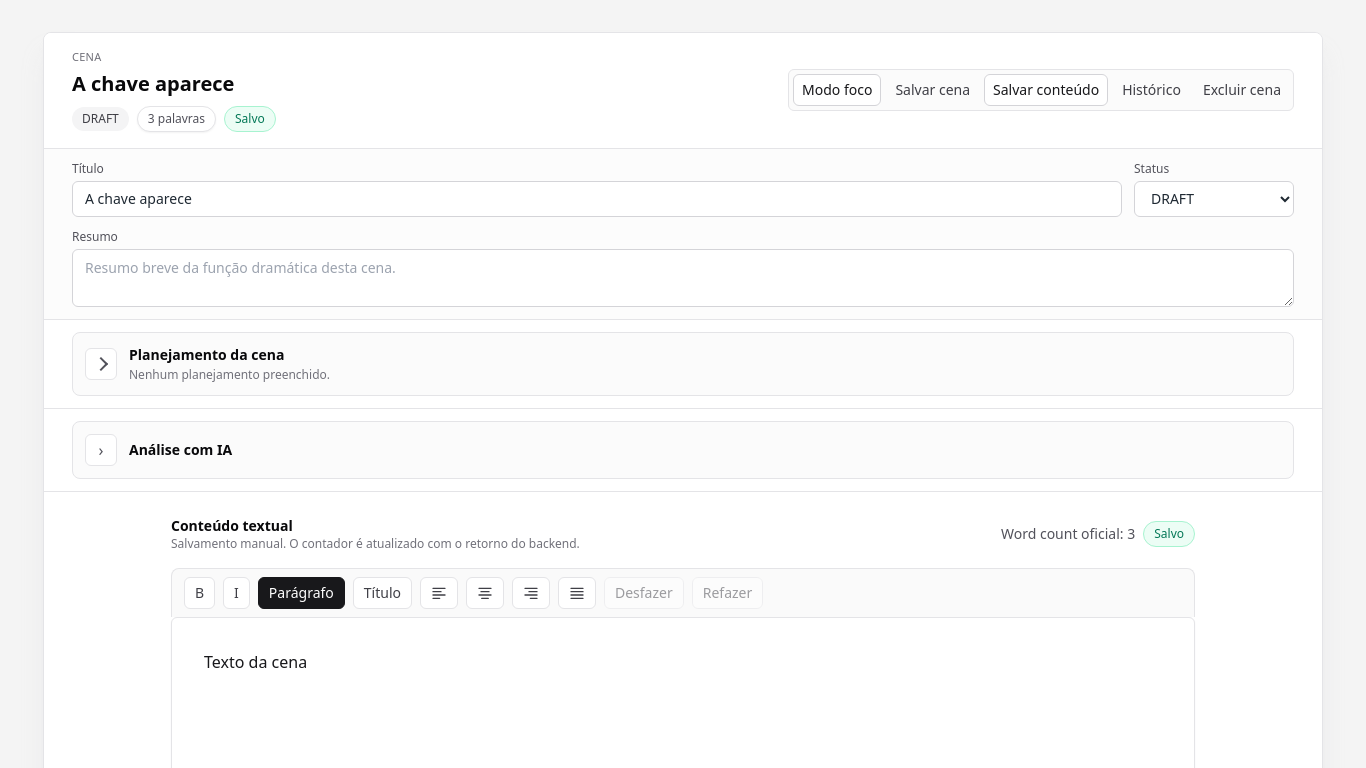
it: SceneEditor content save contract › AI analysis does not save metadata or content and does not schedule autosave
The width and height of the screenshot is (1366, 768).
Expected: the heading "A chave aparece" is shown, [72,70,234,96]
What coordinates should you click on to do the following:
click the button with aria-label "Expandir análise com IA"
I would click on:
 (101, 450)
Its box is [73,422,1293,478].
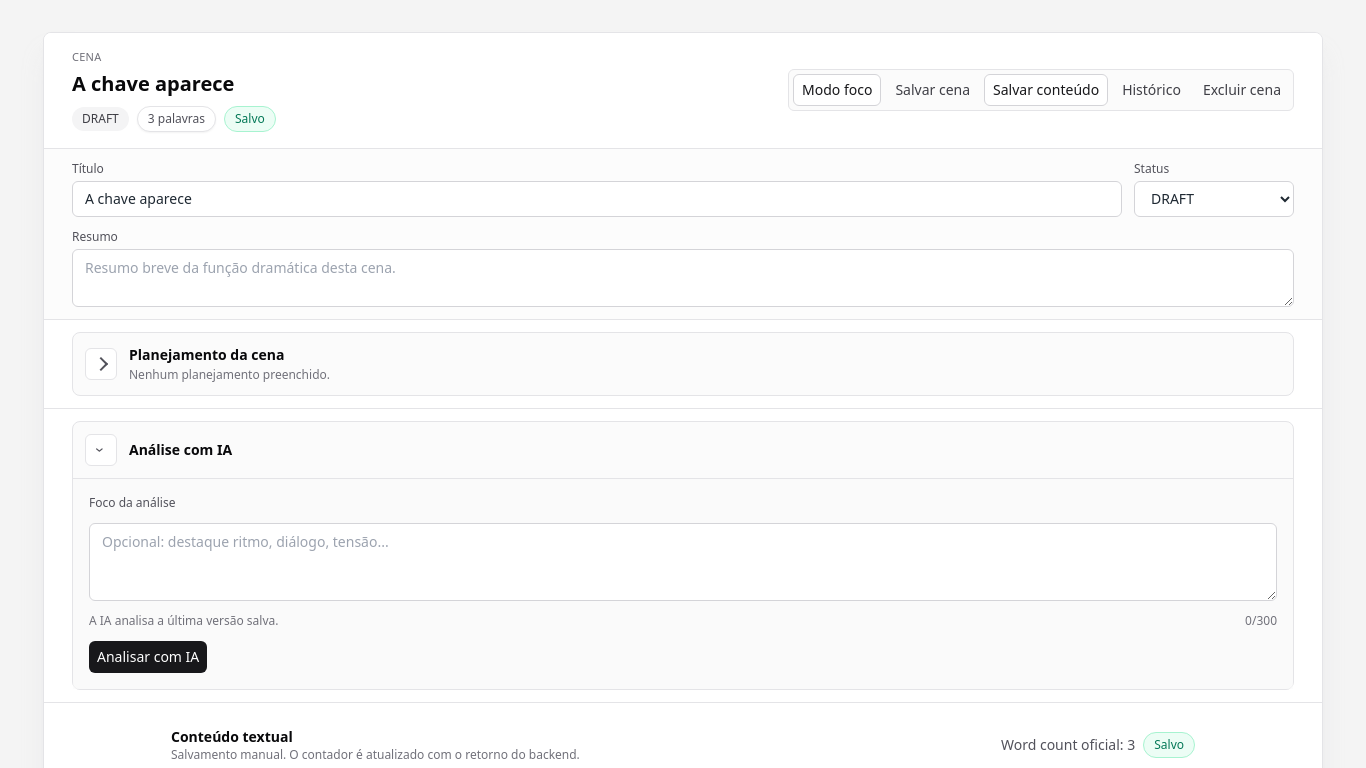
What coordinates should you click on to do the following:
click the button "Analisar com IA"
I would click on:
 (148, 656)
Its box is [89,640,207,672].
Wait 1200 ms
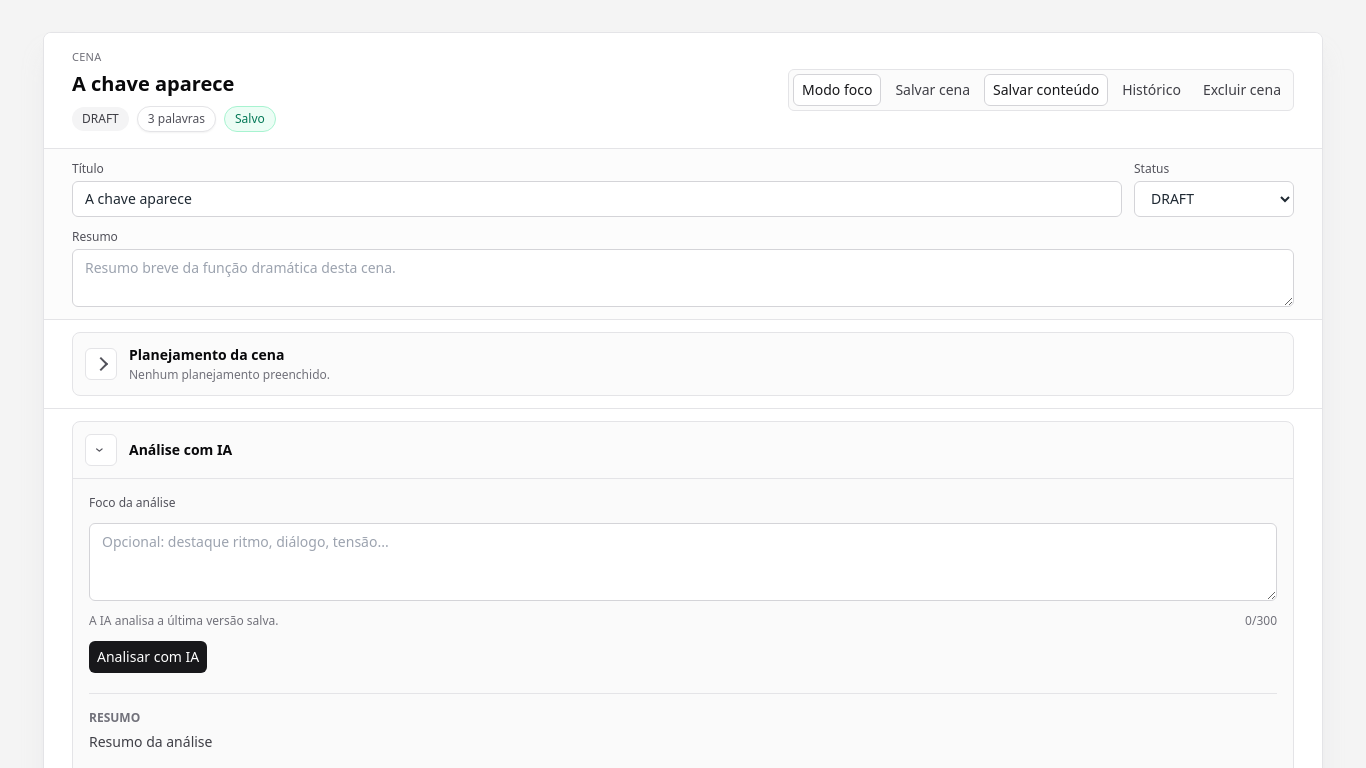
Now the text "Resumo da análise" is shown, box [89,732,212,750]
